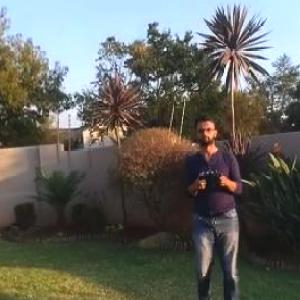follow: (177, 114, 248, 299)
